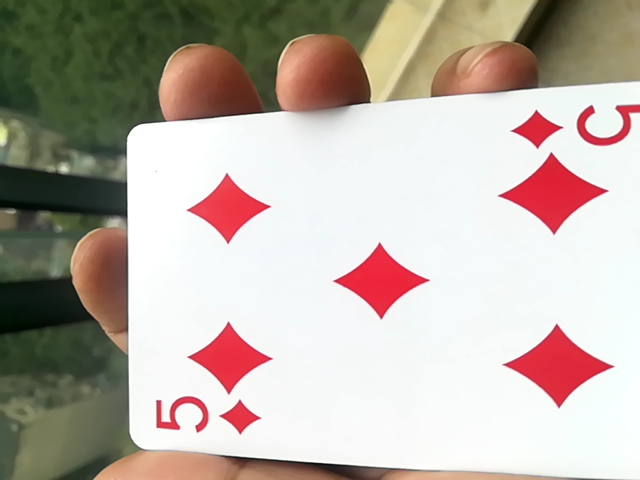fk 5: (116, 94, 638, 480)
